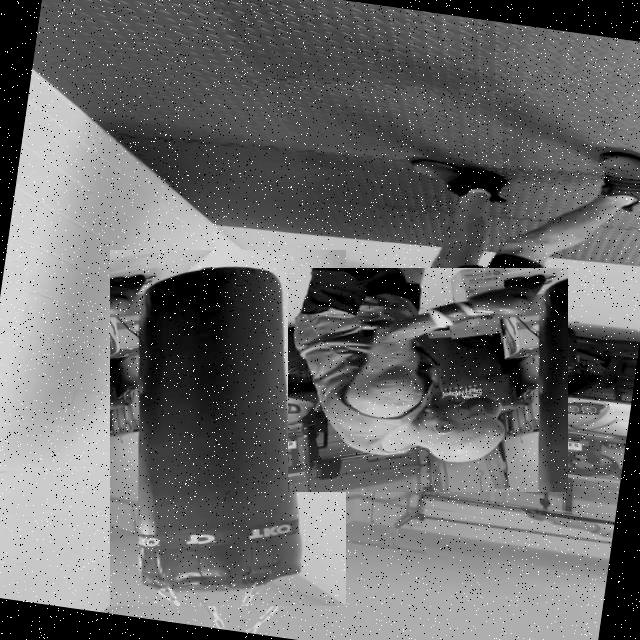punch: (288, 268, 568, 492)
